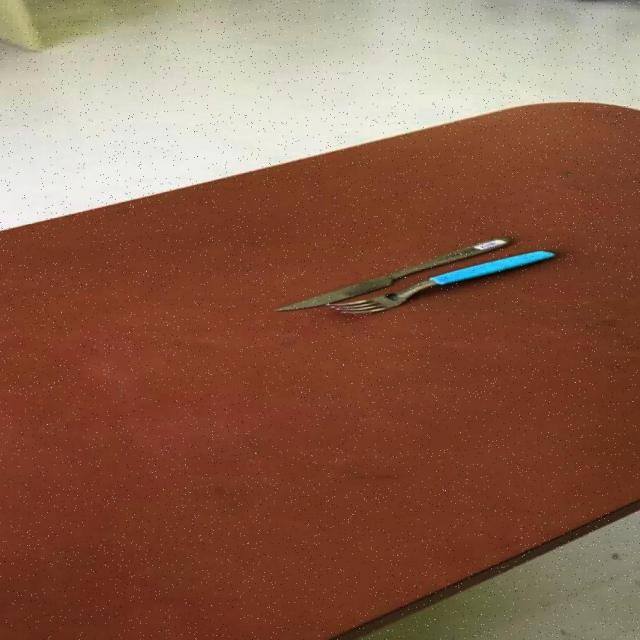Fork: (326, 249, 555, 314)
Knife: (270, 236, 511, 312), (326, 249, 556, 314)
